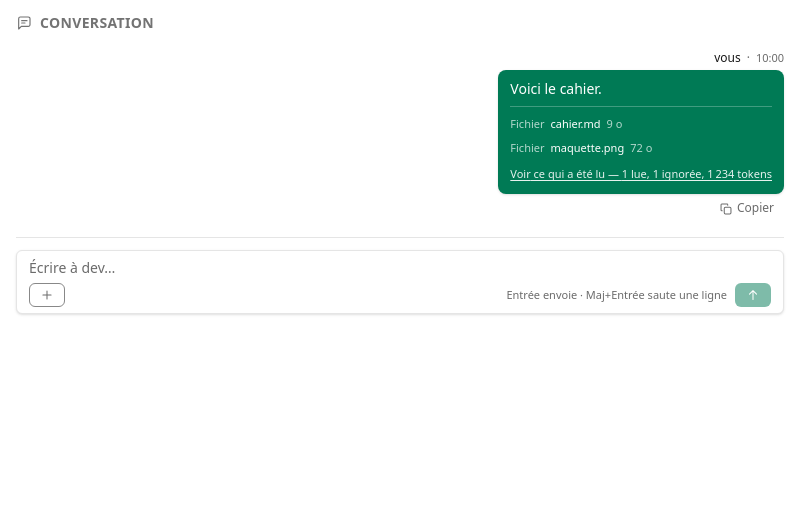
le fil accepte des sources (#482) › rend consultable, depuis le message, ce qui a réellement été lu
The width and height of the screenshot is (801, 521).
Check: the list named "Sources jointes (2)" is shown, box [510,116,652,155]
Click the button "Voir ce qui a été lu — 1 lue, 1 ignorée, 1 234 tokens" at (641, 174), box [510,162,772,186]
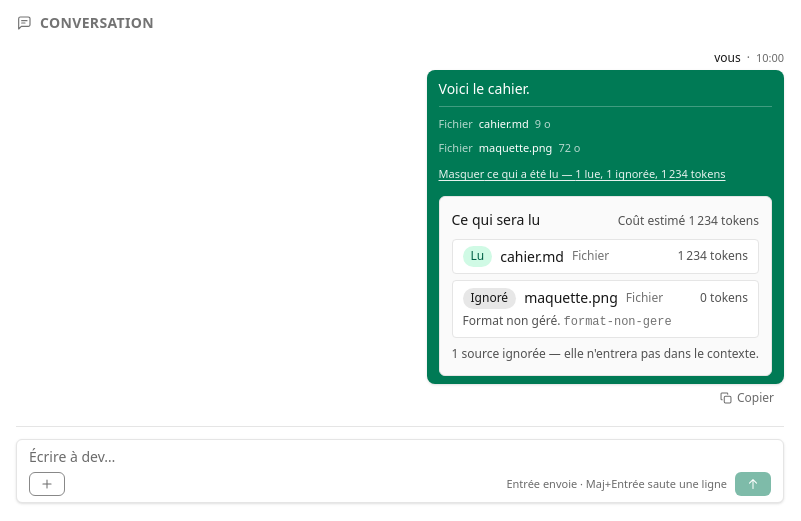
Check: the text "maquette.png" below "Ce qui sera lu" is shown, box [524,288,618,307]
Check: the text "format-non-gere" is shown, box [564,315,672,329]
Check: the text "Ignoré" is shown, box [462,288,516,309]
